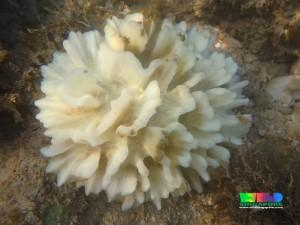bleached_corals: (27, 3, 260, 221)
